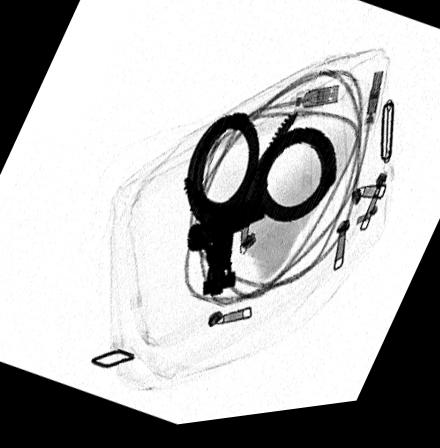HandCuffs: (180, 112, 341, 305)
